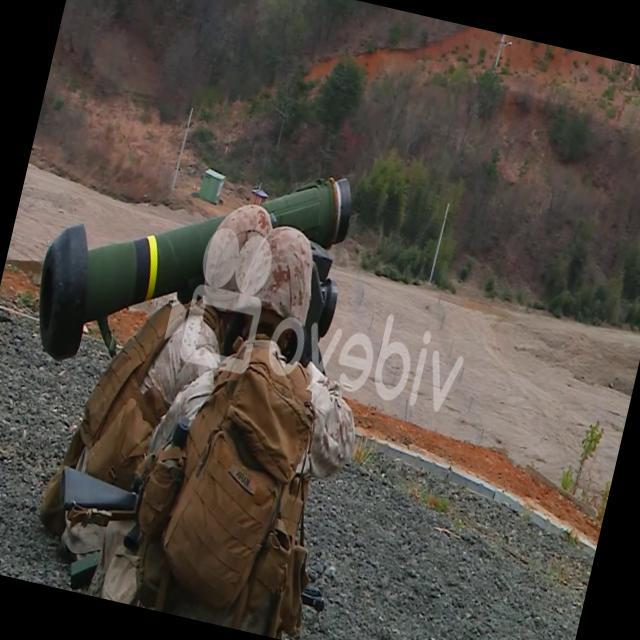rocket: (30, 122, 350, 417)
